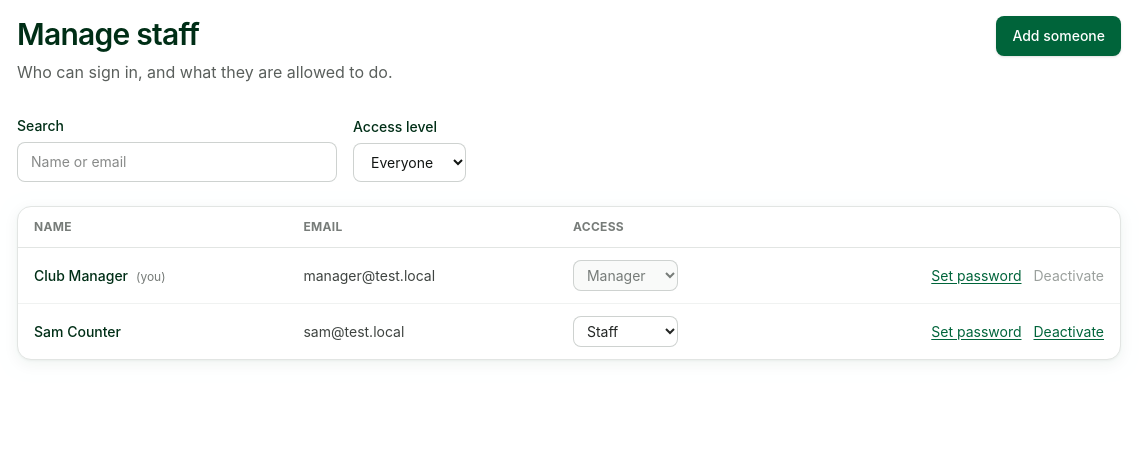
AdminUsersPage › shows the server’s reason when a role change is refused
This screenshot has width=1139, height=457.
Select "Customer" in the dropdown named "Access level for Sam Counter" in the row of "Sam Counter" at {"x": 626, "y": 332}, box 573,316 -> 678,347
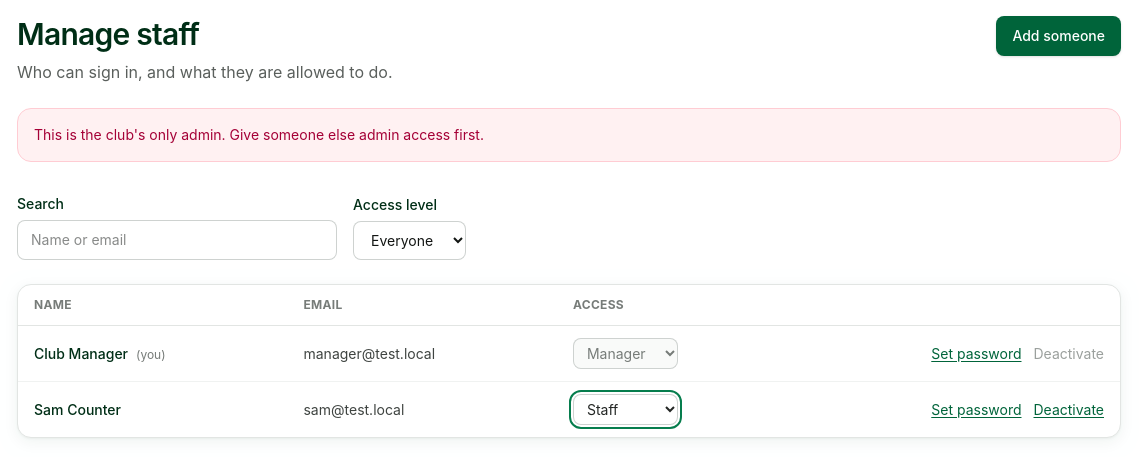
Expected: the message shows "only admin", 34,126 -> 484,143
